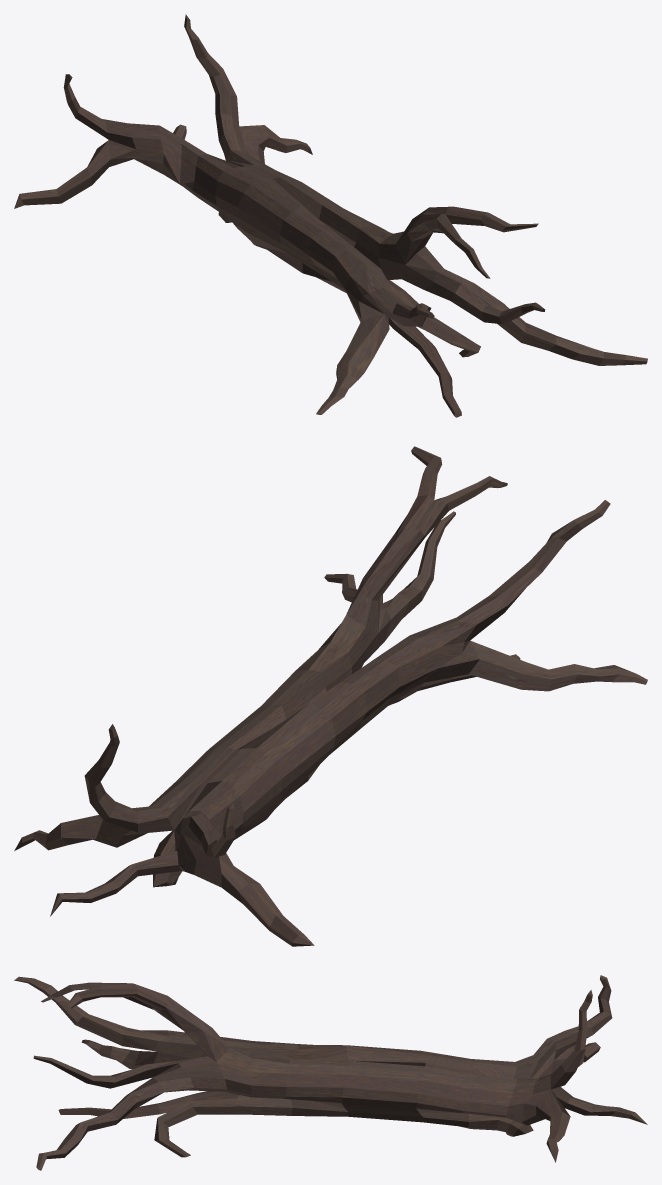
The model's file is bigFallenTreeTrunk.fbx.
3 views of the same model, one above another, from view 1: azimuth 30°, elevation 25°; view 2: azimuth 150°, elevation 25°; view 3: azimuth 270°, elevation 25° (orthographic). The views are drawn at different scales.
Visible parts, largest first — view 1: bigFallenTreeTrunk; view 2: bigFallenTreeTrunk; view 3: bigFallenTreeTrunk.
Part boxes in pixels (x1,y1,x2,y2): bigFallenTreeTrunk: [14, 14, 647, 417]; bigFallenTreeTrunk: [14, 446, 647, 946]; bigFallenTreeTrunk: [14, 975, 647, 1170].
Bounding box in the file's own units: 548 × 310 × 1131.
